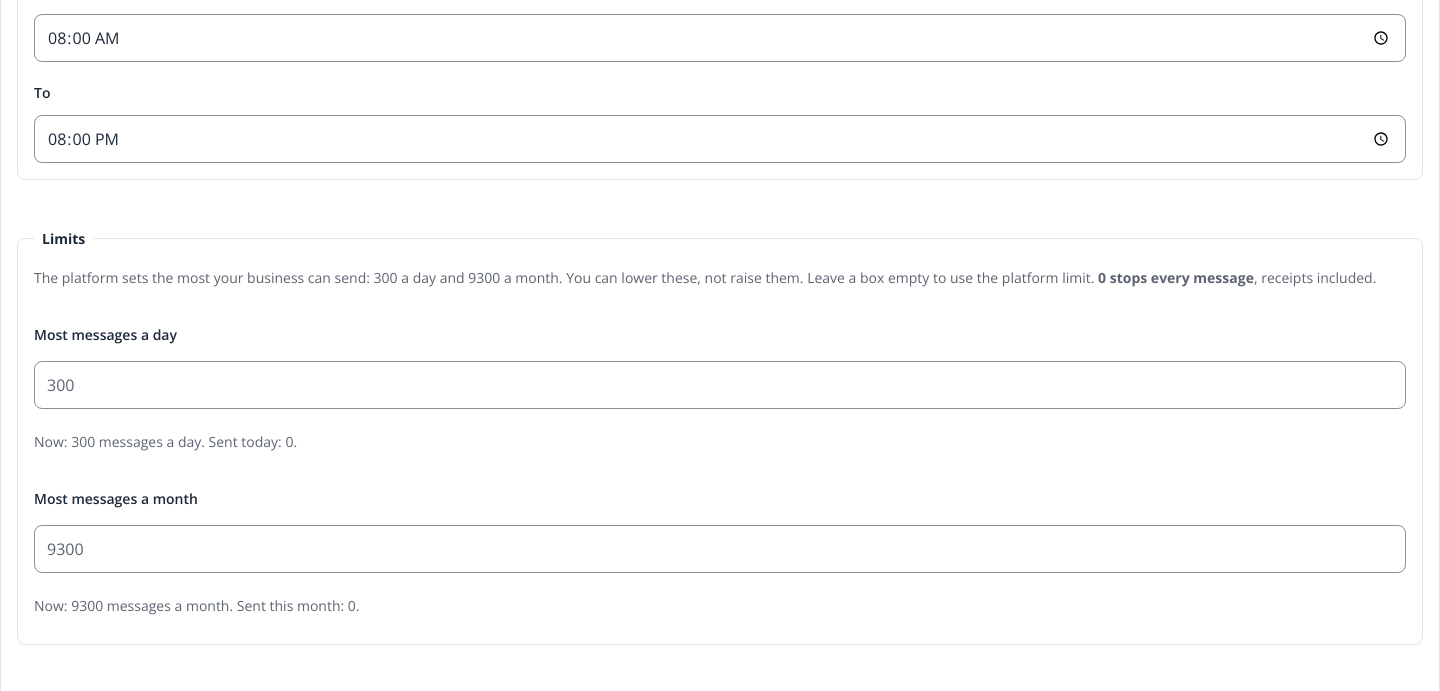
the settings form › puts the server's word next to the box when it refuses a field
The image size is (1440, 691).
(page scrolled)
In the field labelled "Most messages a day": (720, 385) [34, 361, 1406, 409], type "50"
(page scrolled)
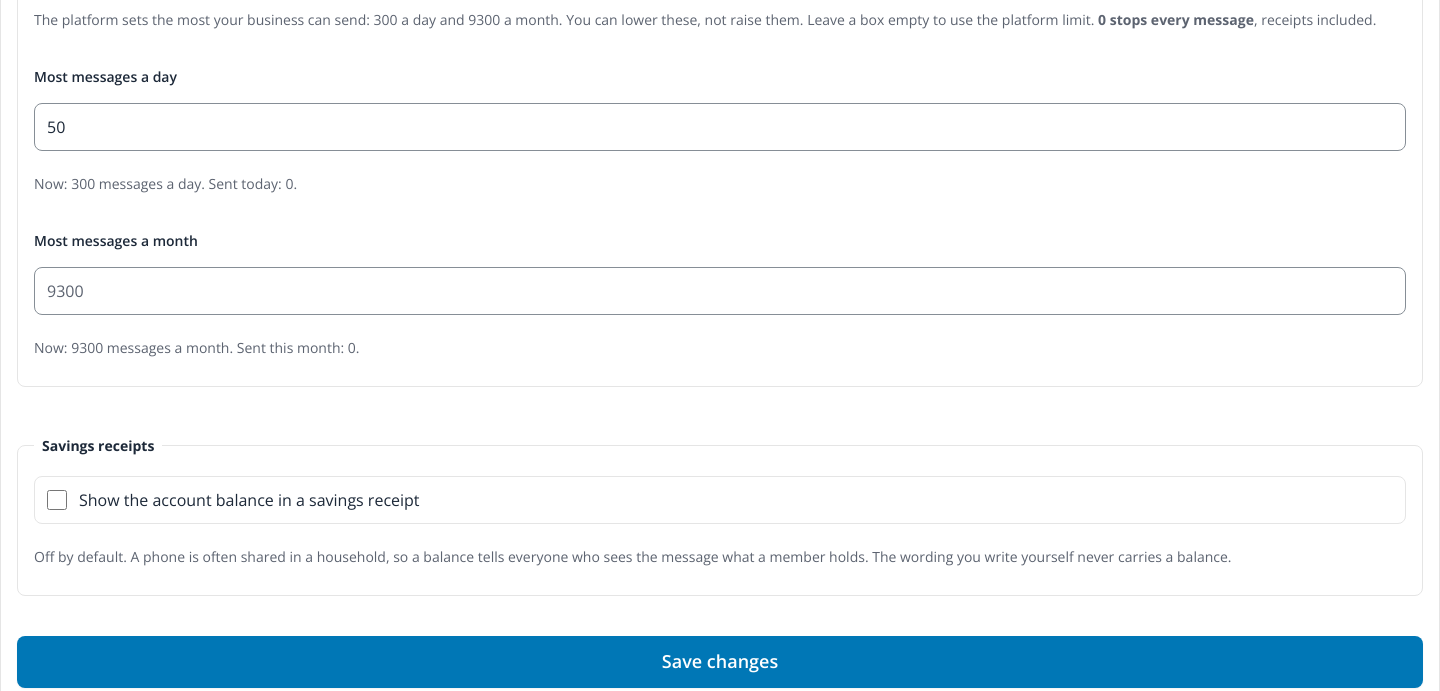
Click the button "Save changes": (720, 662) [17, 636, 1423, 688]
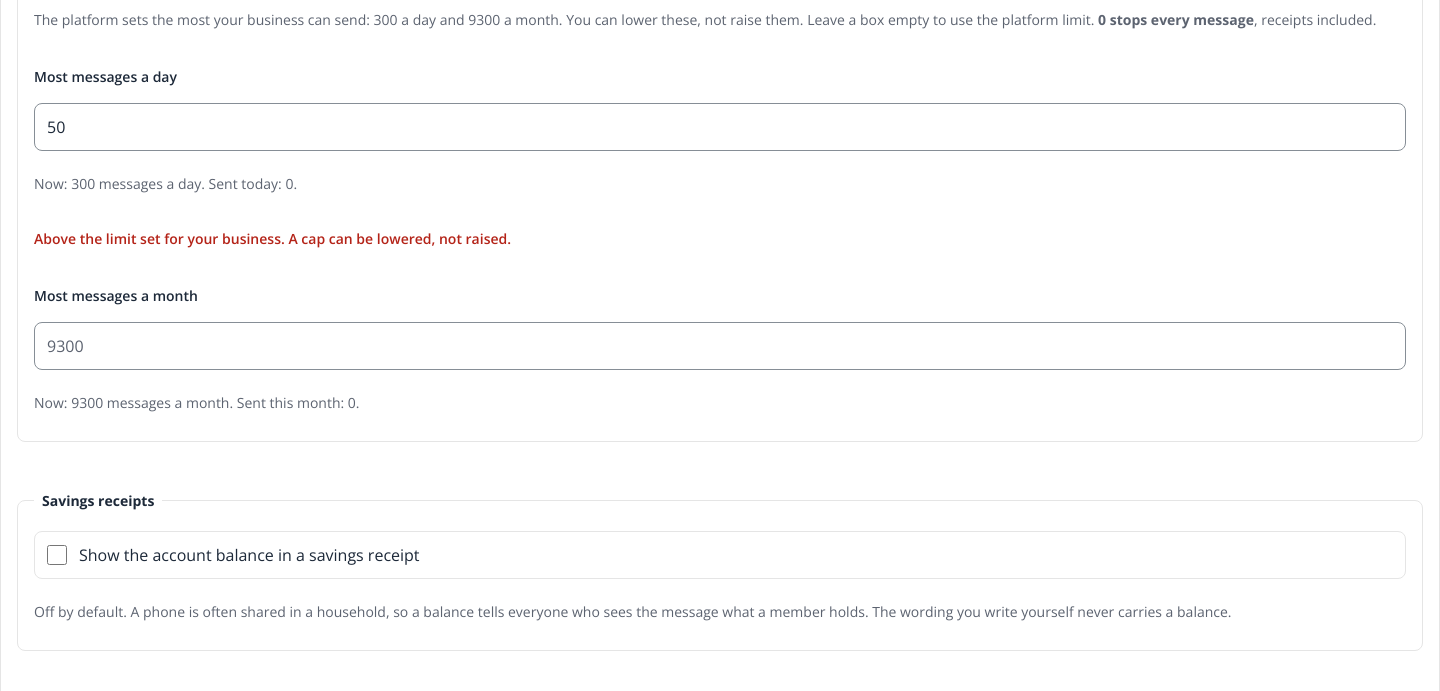
Now the text "Above the limit set for your business. A cap can be lowered, not raised." is shown, box [34, 229, 511, 248]
